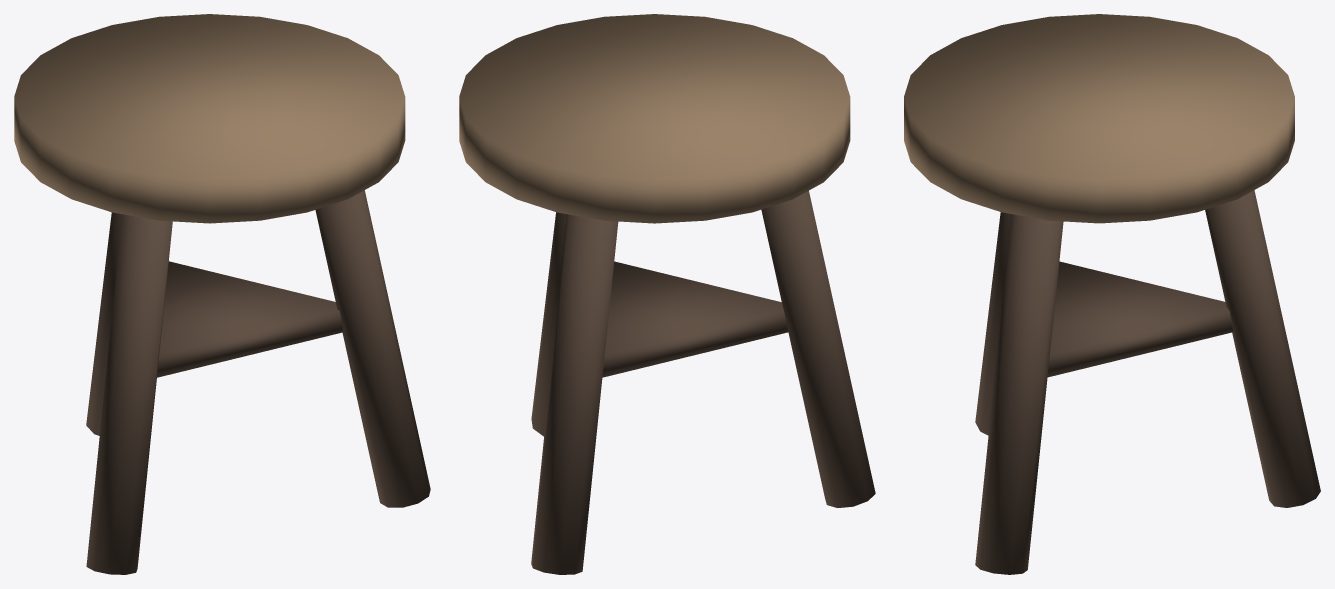
The model's file is council_stool.glb.
The picture shows the model from 3 angles, left to right: view 1: azimuth 30°, elevation 25°; view 2: azimuth 150°, elevation 25°; view 3: azimuth 270°, elevation 25°; orthographic projection.
Visible parts, largest first — view 1: seat; view 2: seat; view 3: seat.
Part boxes in pixels (<box>): seat: <box>14,14,430,574</box>; seat: <box>459,14,875,574</box>; seat: <box>904,14,1320,574</box>.
Bounding box in the file's own units: 0.4 × 0.4563 × 0.4267.
